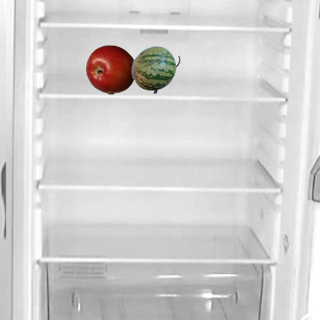Apple Braeburn: (85, 44, 135, 94)
Watermelon: (130, 44, 180, 94)
